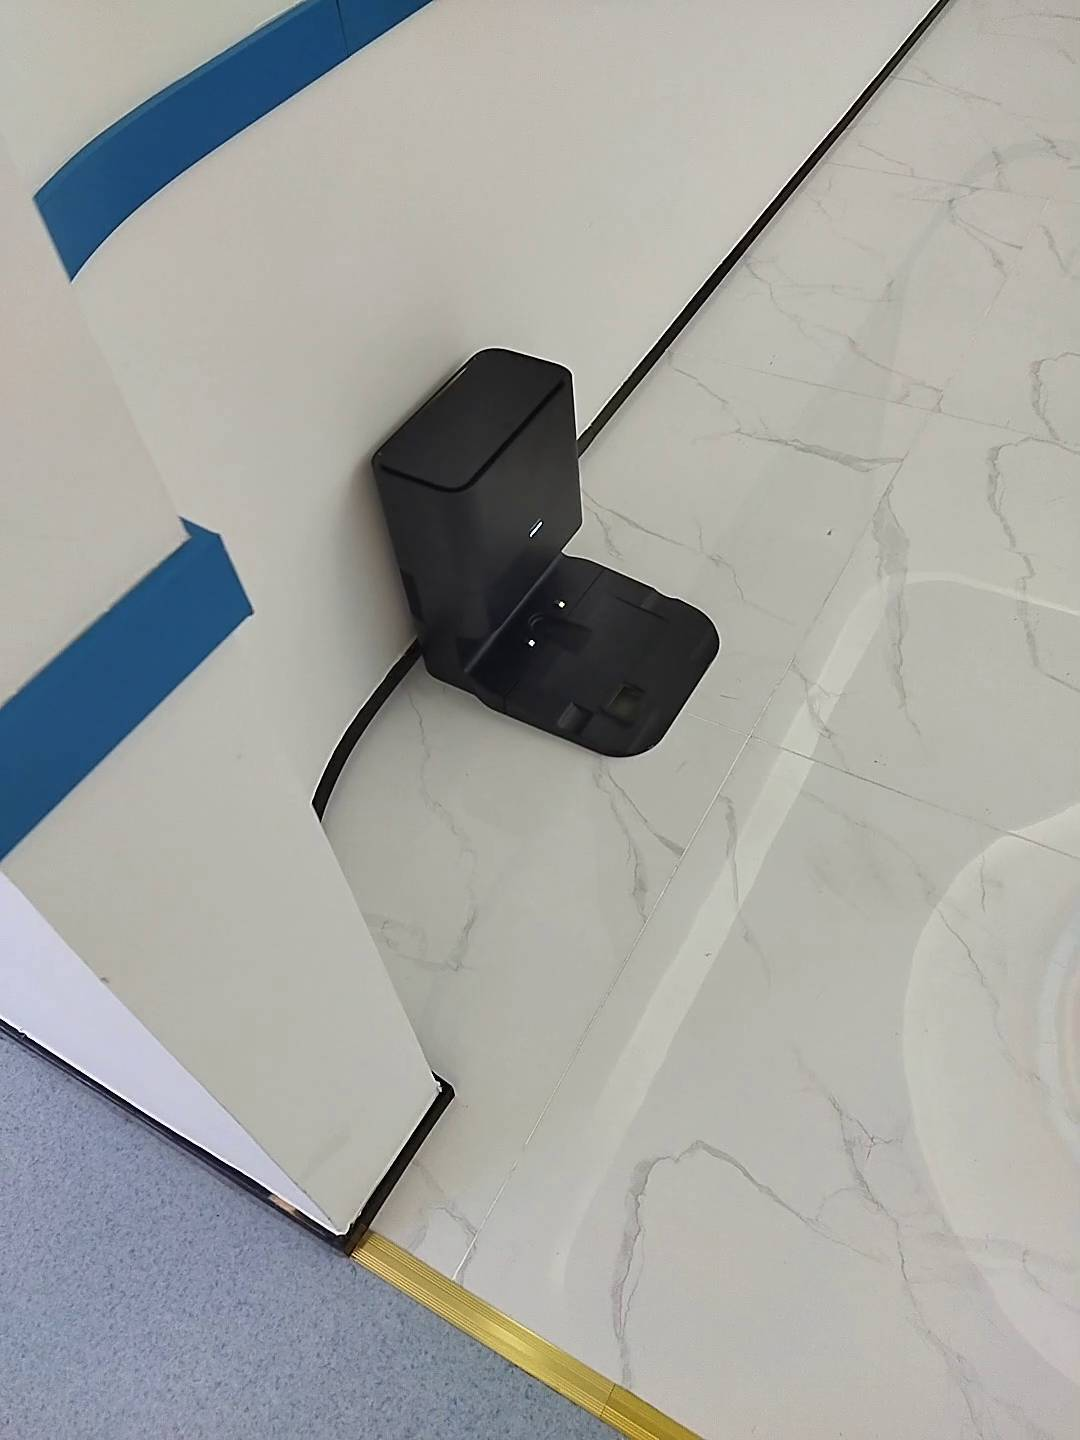dust collecting barrel: (369, 346, 719, 759)
